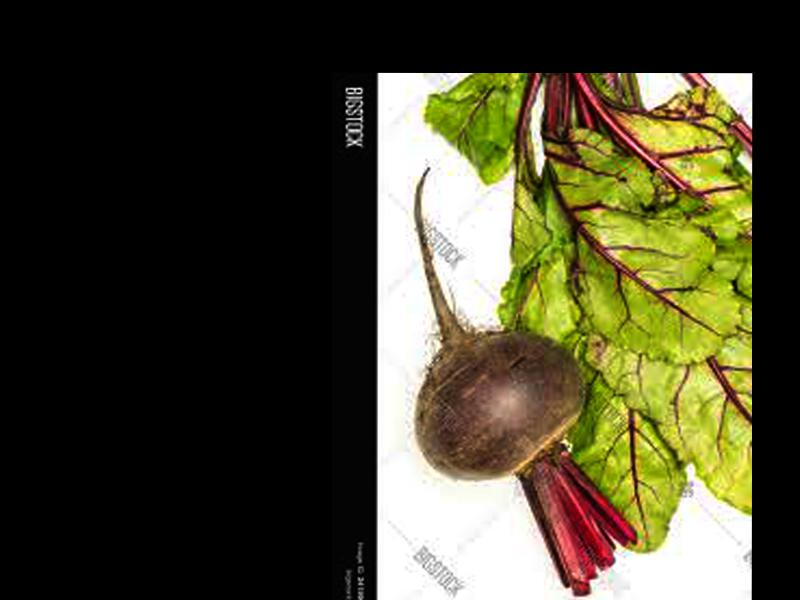Beet: (413, 167, 637, 596)
